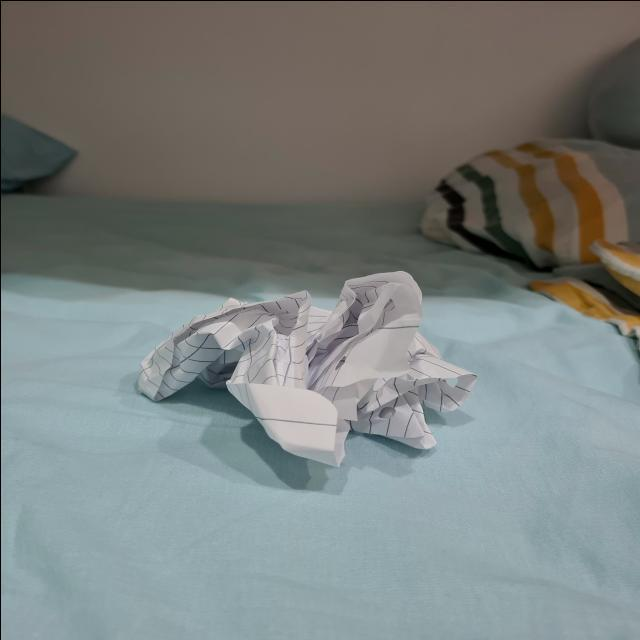Paper: (119, 249, 492, 495)
